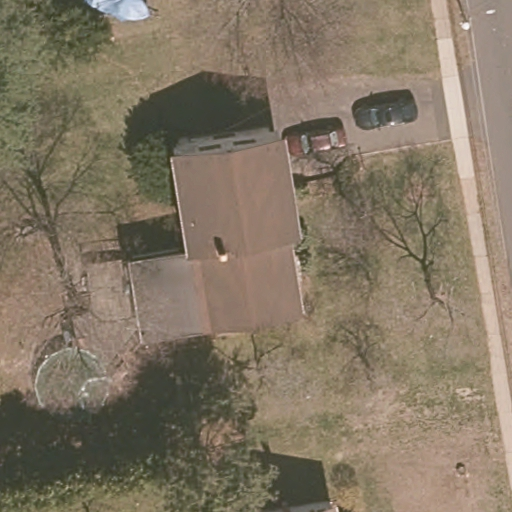DT: (456, 1, 497, 32)
